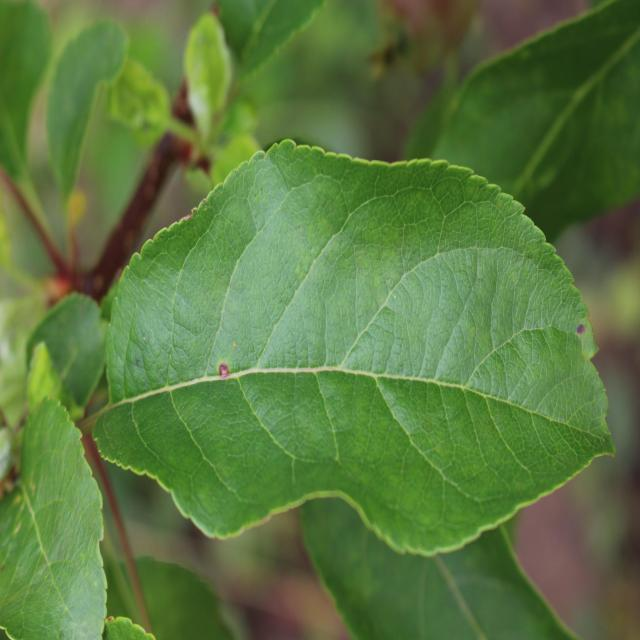rust: (90, 139, 617, 556)
